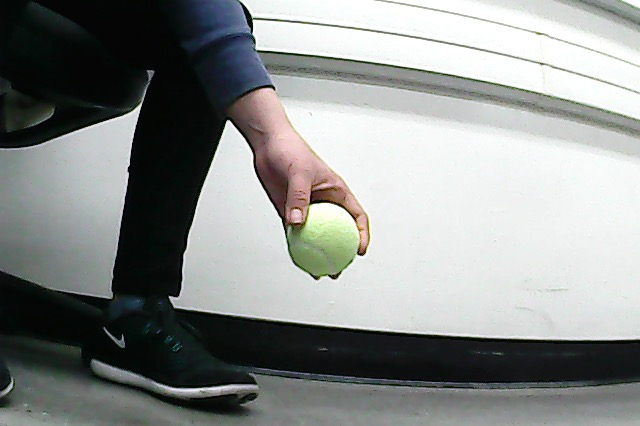ball: (286, 199, 362, 279)
